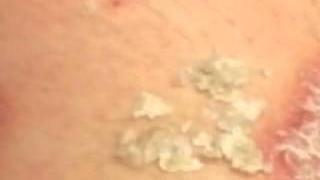plaque psoriasis: (105, 48, 320, 180)
